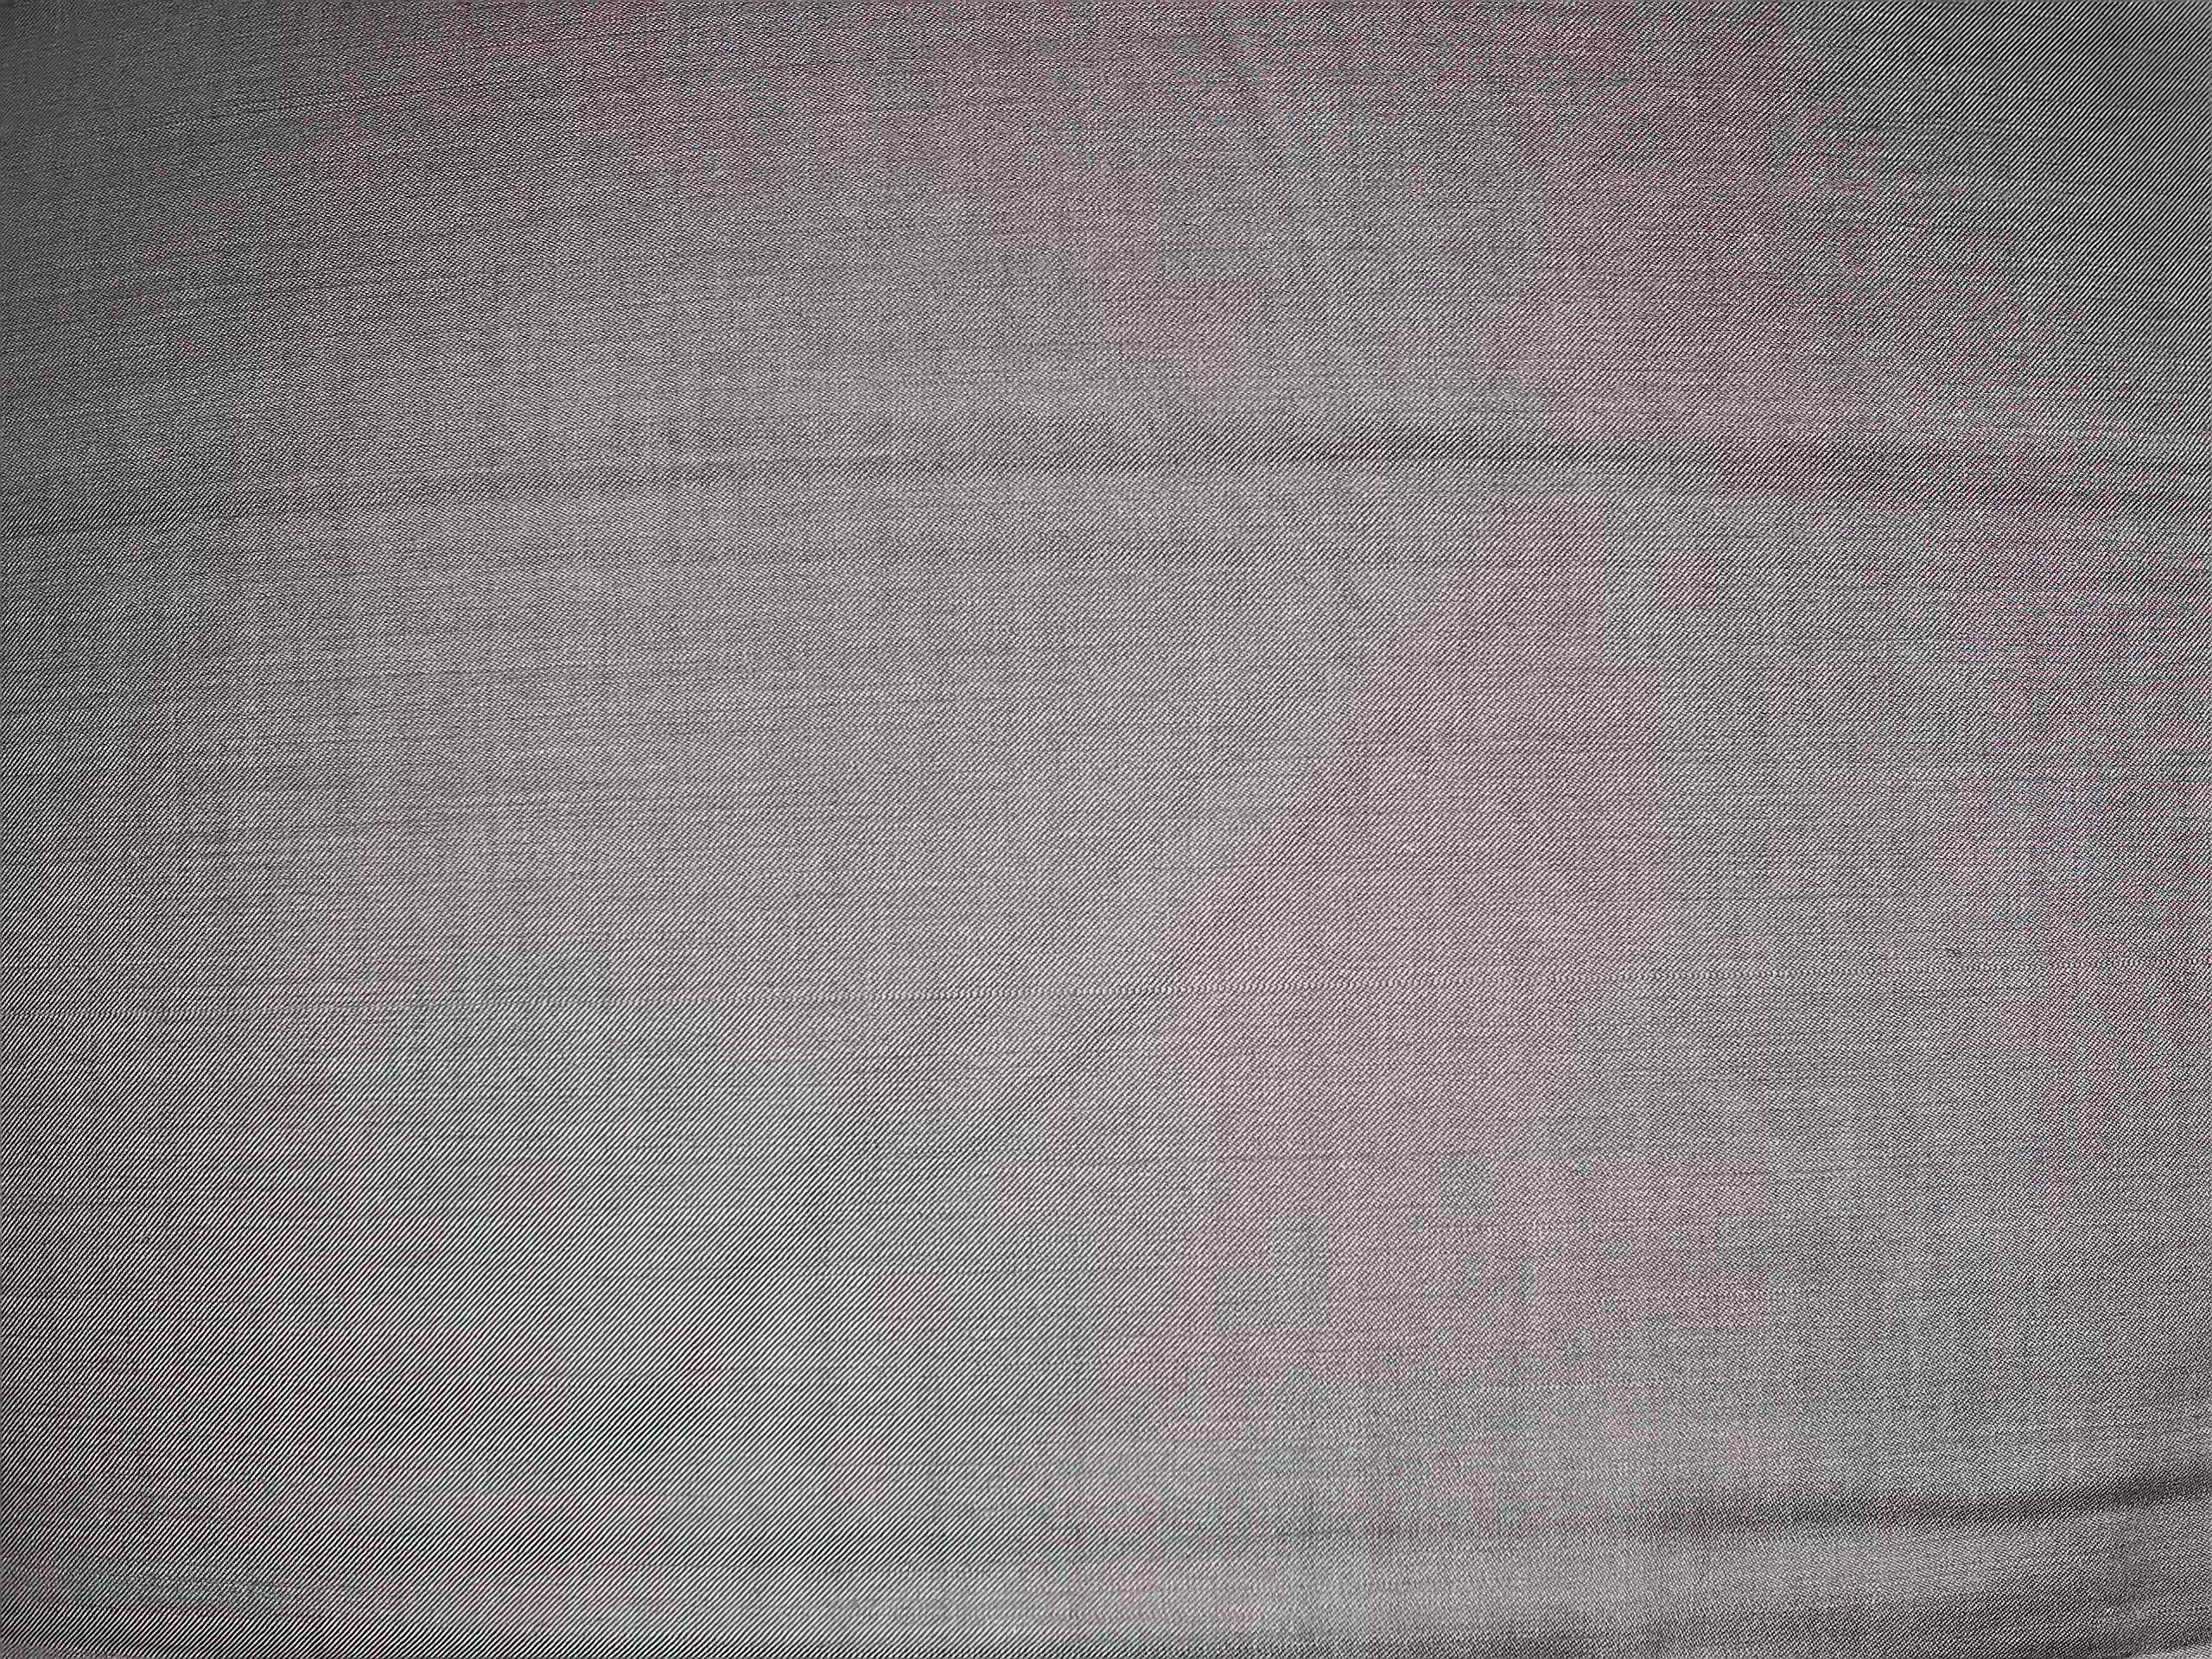others: (728, 951, 2209, 1007)
